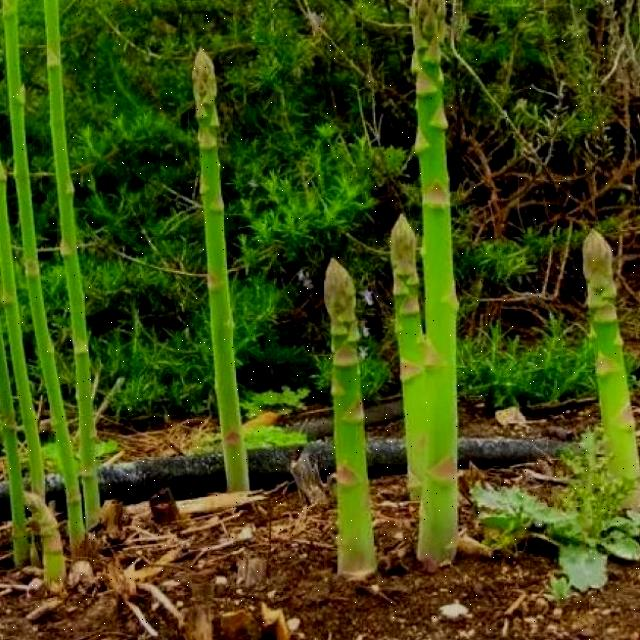aspargus: (411, 0, 460, 572)
